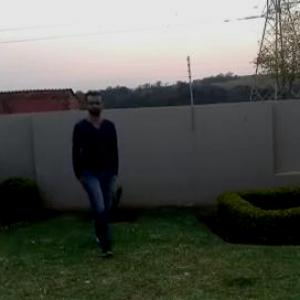follow: (70, 91, 122, 250)
